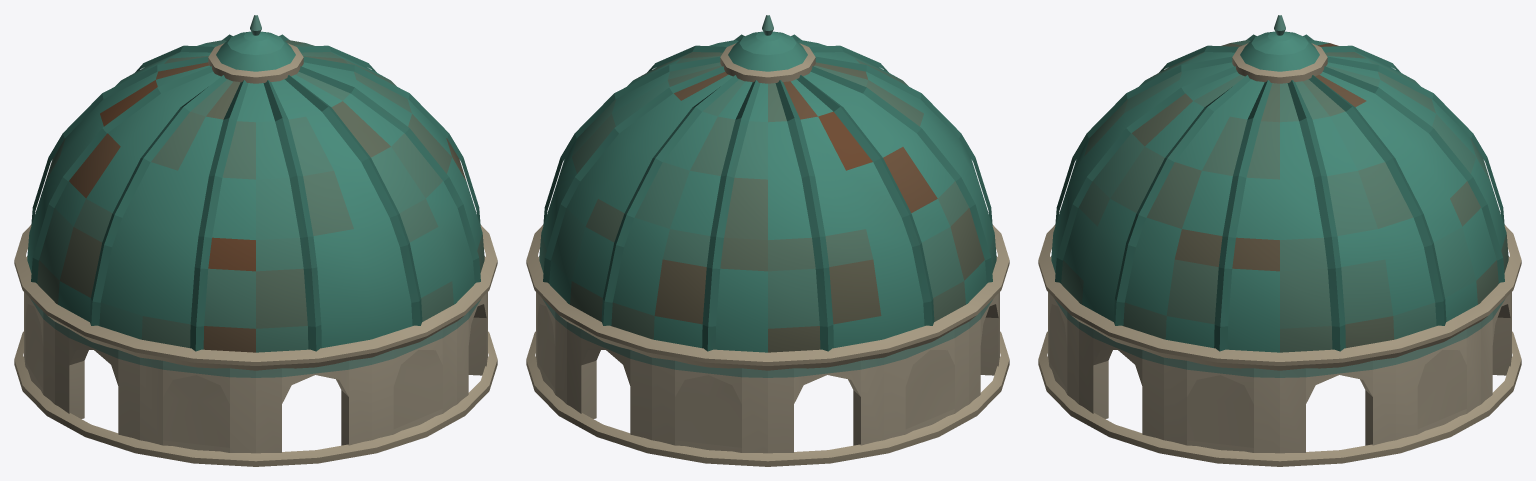
File: dome.hall_12.copper.glb
3 renders of one model, left to right at view 1: azimuth 30°, elevation 25°; view 2: azimuth 150°, elevation 25°; view 3: azimuth 270°, elevation 25°, orthographic.
Parts seen in each view (by area): view 1: dome_hall_12_copper; view 2: dome_hall_12_copper; view 3: dome_hall_12_copper.
Boxes of the visible parts, x1,y1,x2,y2 form: dome_hall_12_copper: [14, 15, 497, 466]; dome_hall_12_copper: [526, 15, 1009, 466]; dome_hall_12_copper: [1038, 15, 1521, 466].
Size of what is drawn, in the model's own units: 15.2 by 12.15 by 15.2.
